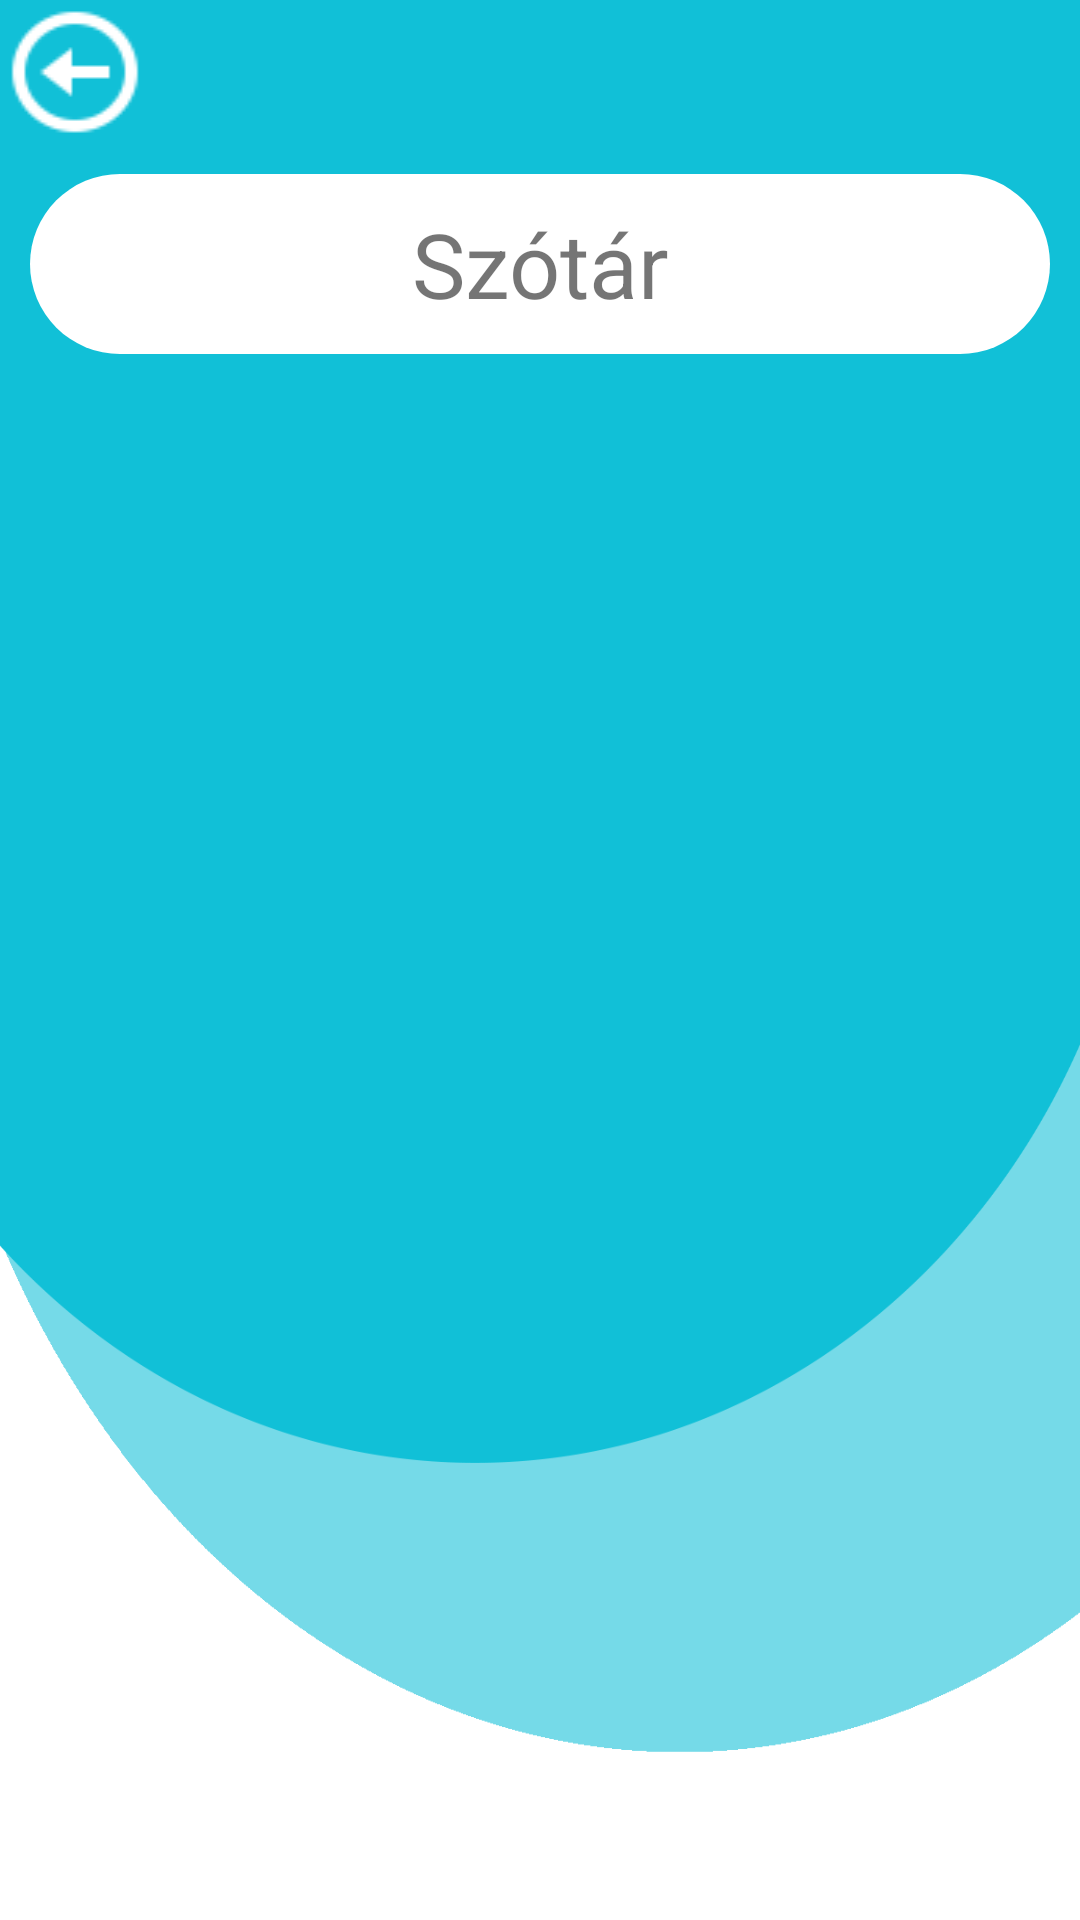

Where to tap for icons on this 1080px×1920px app screen, as [x,y]:
back: [75,72]
